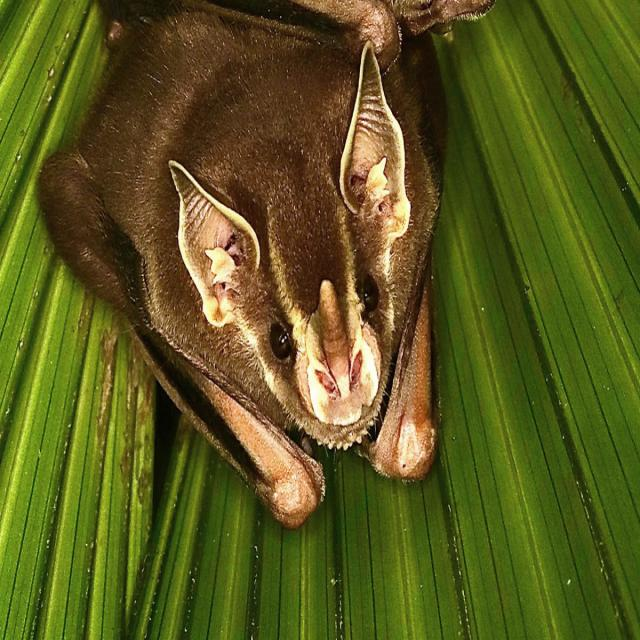bat: (38, 0, 493, 527)
